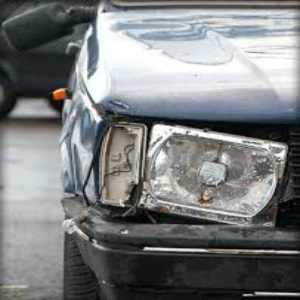head_lights: (99, 112, 282, 226)
